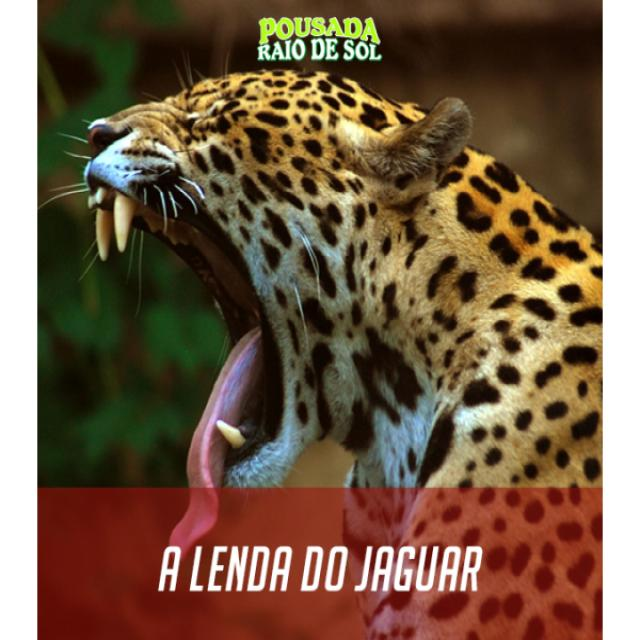Jaguar: (79, 65, 600, 484)
